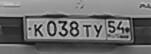license-plateSW: (25, 17, 133, 41)
